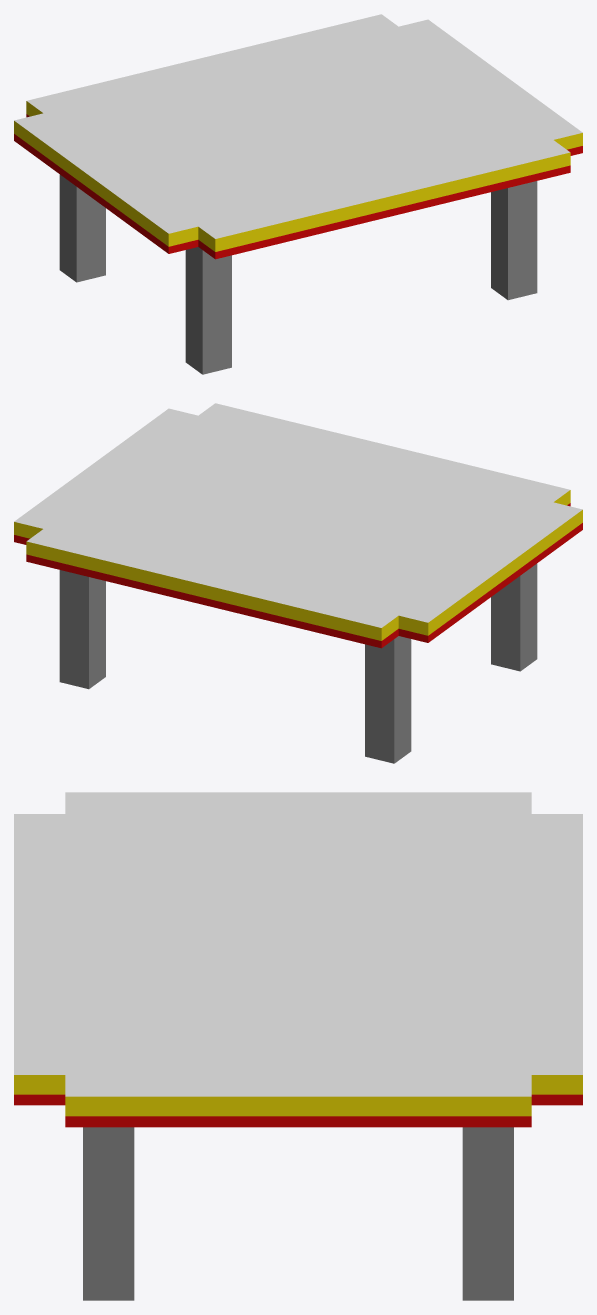
File: Gas Station.fbx
The picture shows the model from 3 angles, top to bottom: view 1: azimuth 30°, elevation 25°; view 2: azimuth 150°, elevation 25°; view 3: azimuth 270°, elevation 25°; orthographic projection. The views are drawn at different scales.
Parts seen in each view (by area): view 1: Model; view 2: Model; view 3: Model.
Part boxes in pixels (left/top/right/bottom): Model: left=14, top=14, right=582, bottom=374; Model: left=14, top=403, right=582, bottom=763; Model: left=14, top=792, right=582, bottom=1300.
Size of the model in its own units: 391 by 140 by 309.
